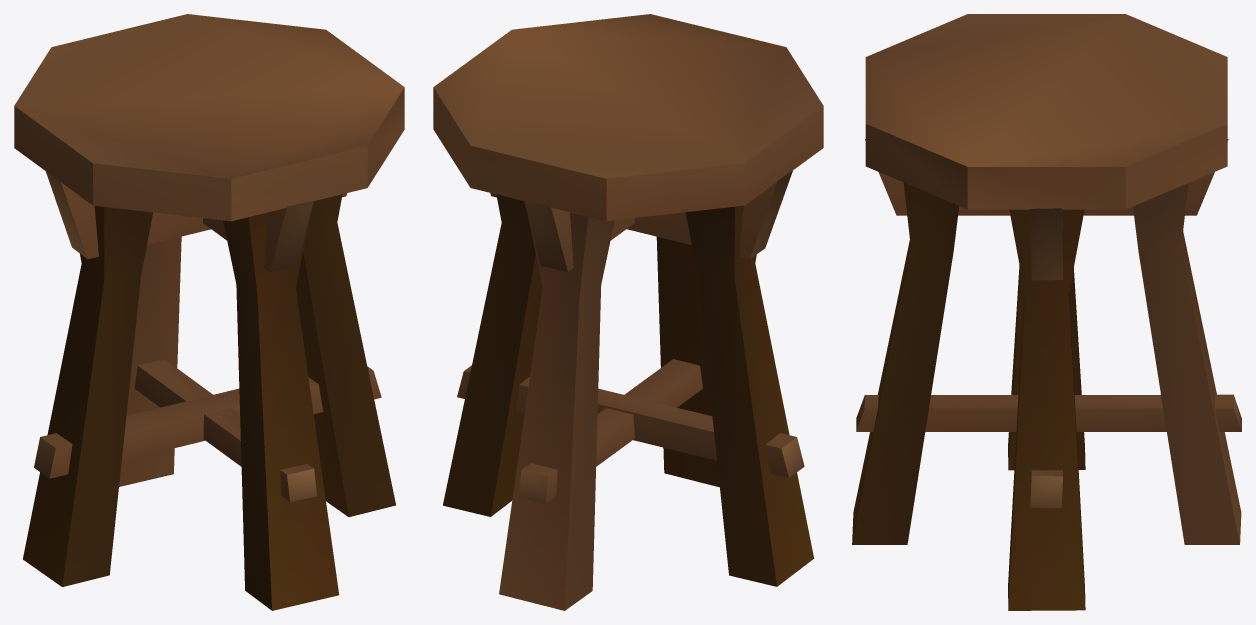
File: stool.glb
The picture shows the model from 3 angles, left to right: view 1: azimuth 30°, elevation 25°; view 2: azimuth 150°, elevation 25°; view 3: azimuth 270°, elevation 25°; orthographic projection.
Parts seen in each view (by area): view 1: stool; view 2: stool; view 3: stool.
Boxes of the visible parts, x1=… form: stool: x1=14, y1=14, x2=404, y2=610; stool: x1=433, y1=14, x2=823, y2=610; stool: x1=852, y1=14, x2=1241, y2=610.
Bounding box in the file's own units: 0.4746 × 0.5887 × 0.4746.
